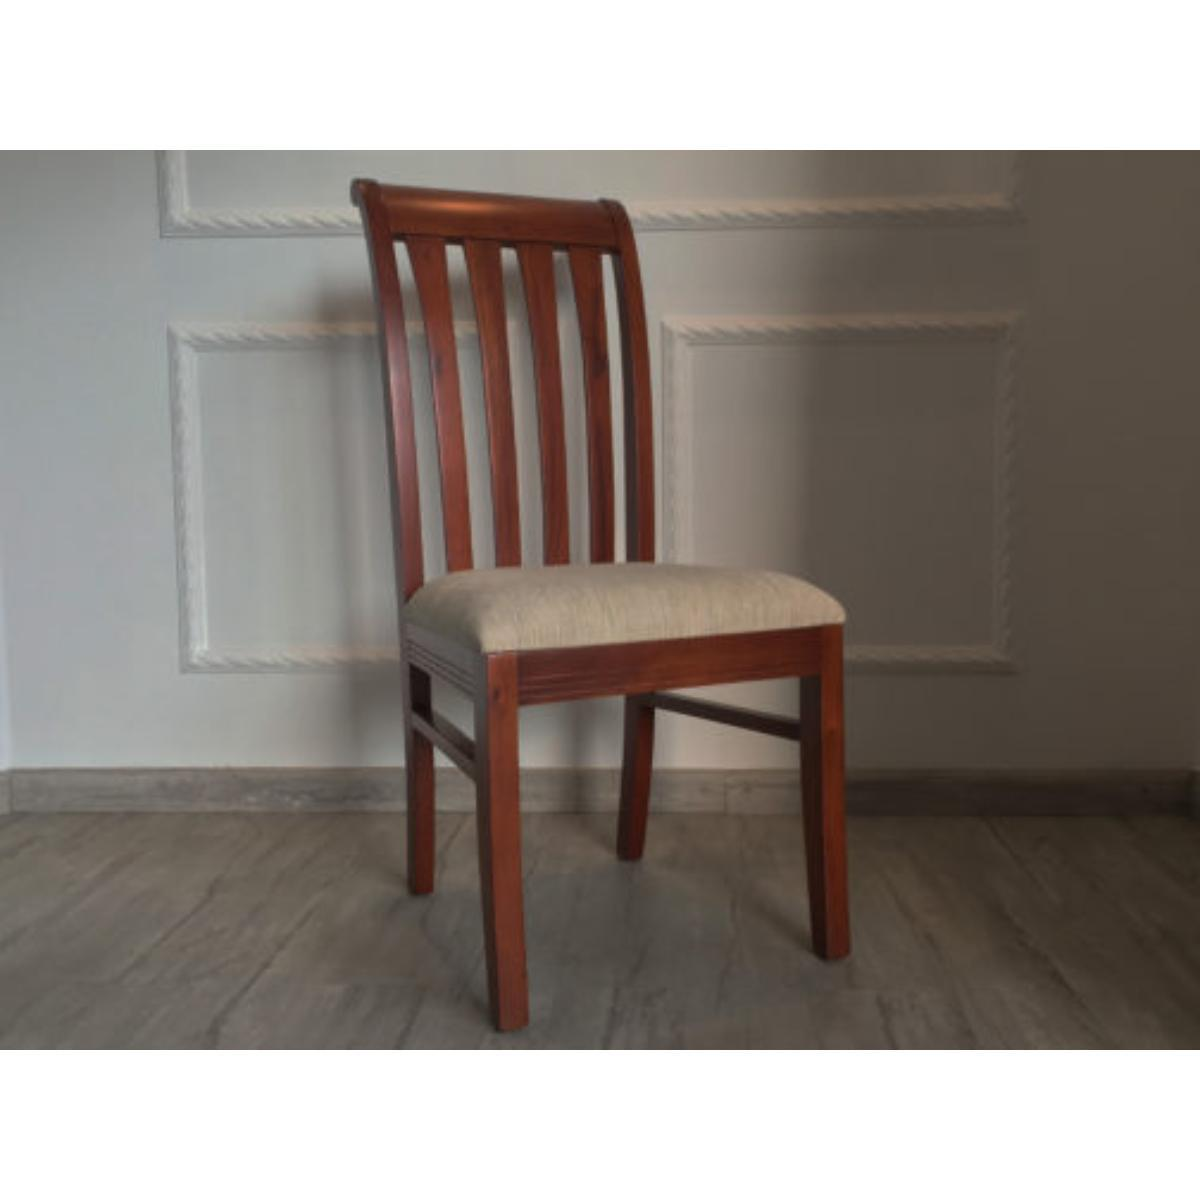Chair: (344, 176, 860, 1032)
